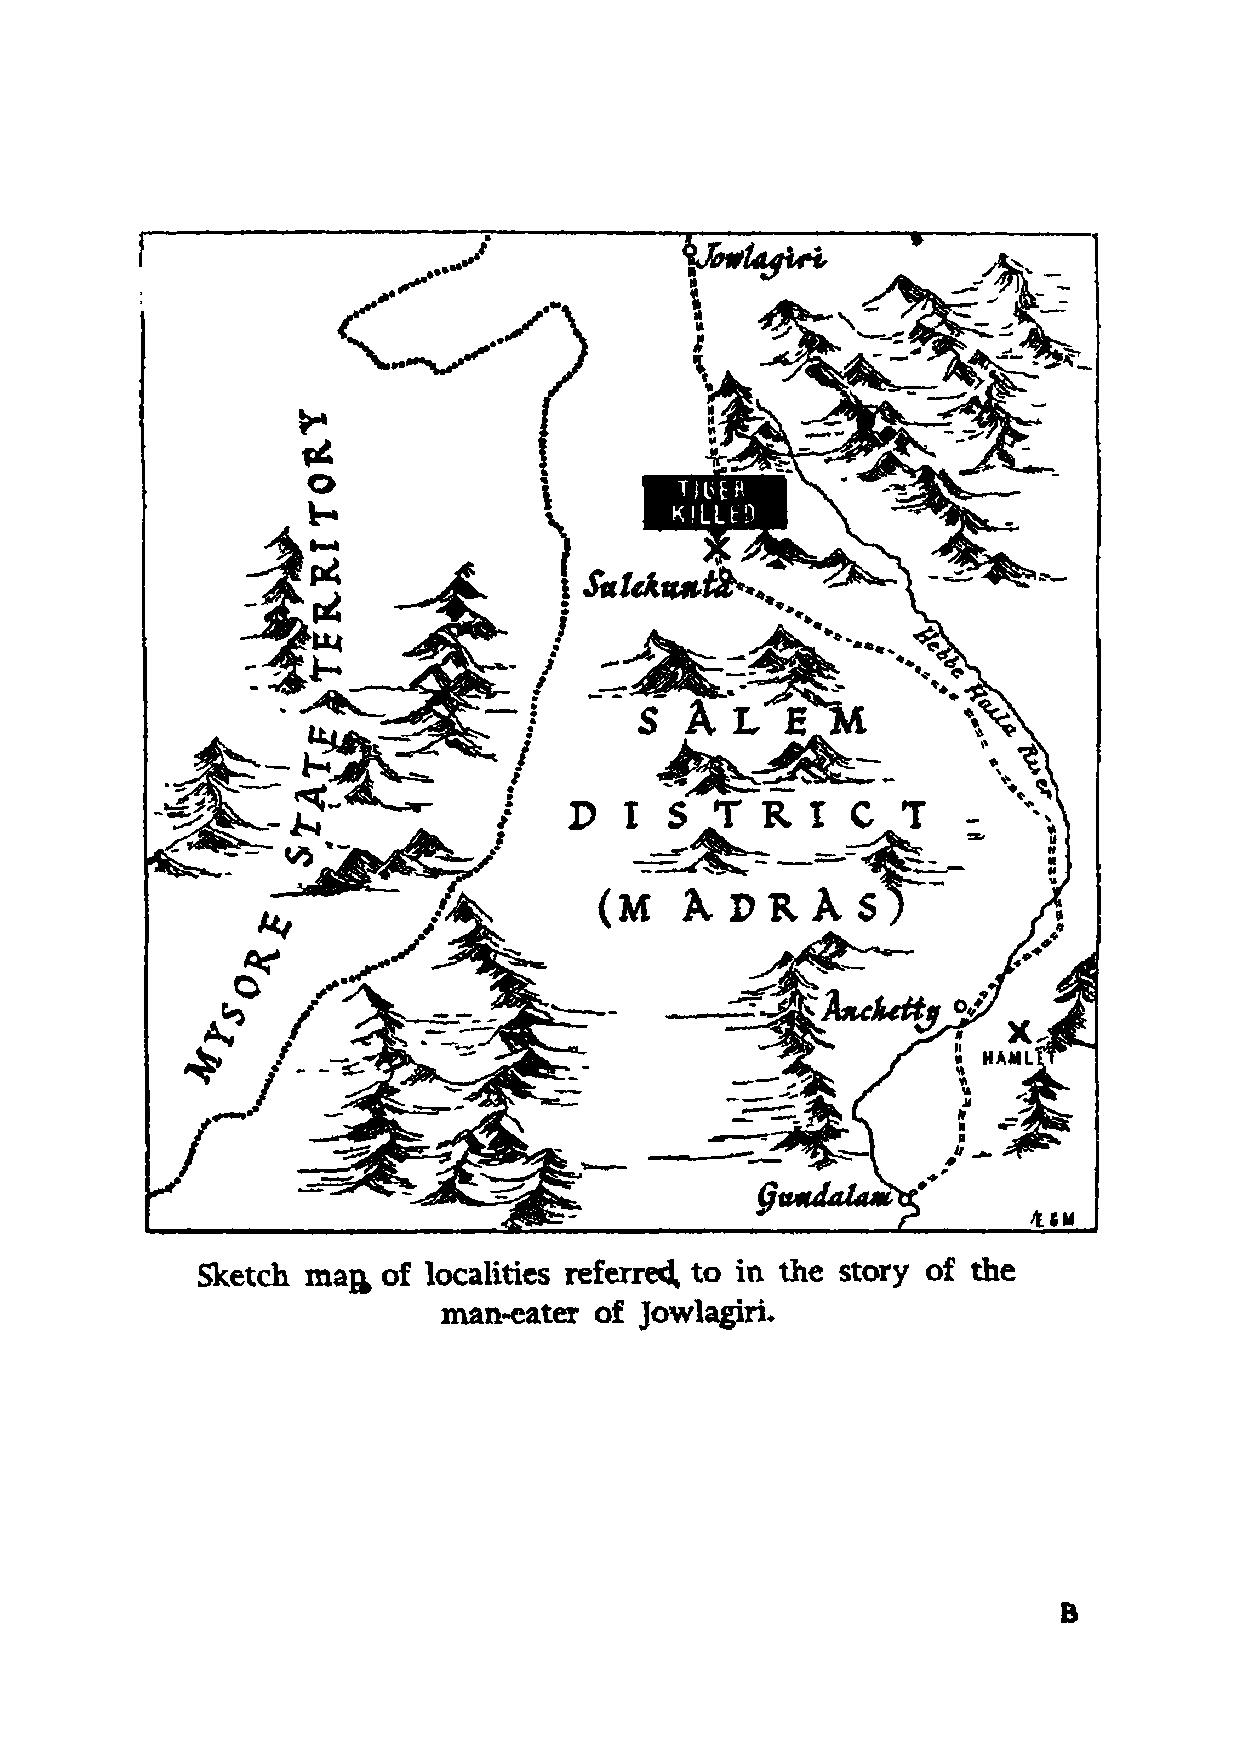content: (127, 223, 1106, 1333)
content_pagenumber: (1051, 1596, 1082, 1633)
